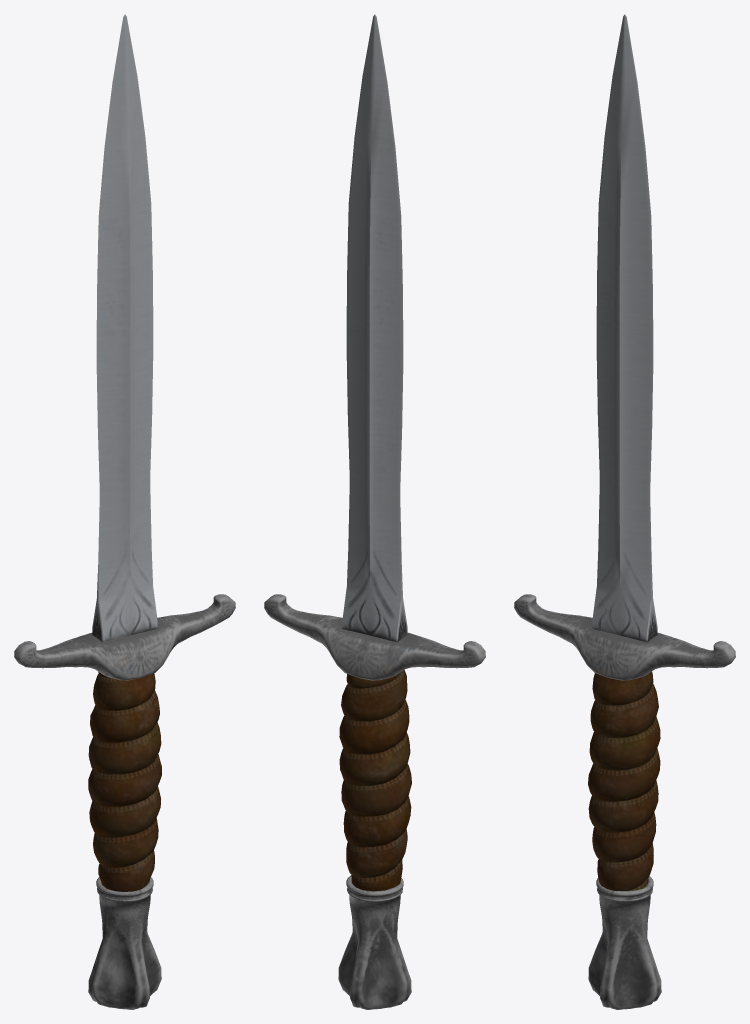
File: ornate_medieval_dagger.glb
3 renders of one model, left to right at view 1: azimuth 30°, elevation 25°; view 2: azimuth 150°, elevation 25°; view 3: azimuth 330°, elevation 25°, orthographic.
Parts seen in each view (by area): view 1: ornate_medieval_dagger; view 2: ornate_medieval_dagger; view 3: ornate_medieval_dagger.
Boxes of the visible parts, x1,y1,x2,y2 form: ornate_medieval_dagger: [14, 14, 235, 1009]; ornate_medieval_dagger: [264, 14, 485, 1009]; ornate_medieval_dagger: [514, 14, 735, 1009].
Size of the model in its own units: 0.0798 by 0.3459 by 0.025.
Materials: 1 (1 with a texture image).
